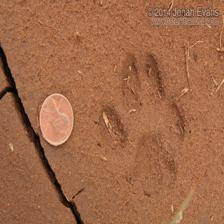lynx: (95, 50, 192, 201)
